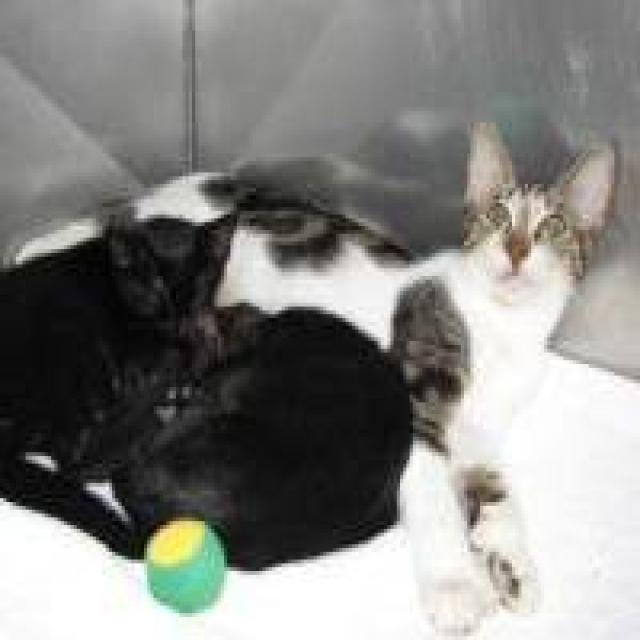cat: (0, 61, 622, 638), (94, 272, 436, 605), (0, 193, 247, 539)
